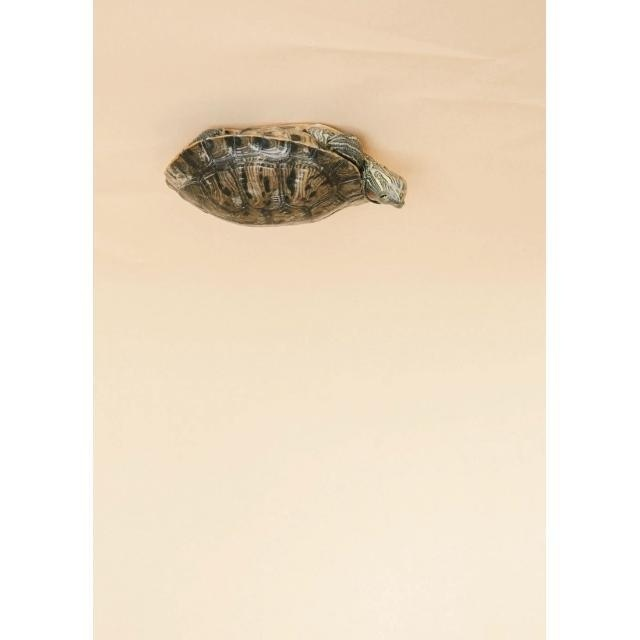turtle: (162, 123, 407, 225)
